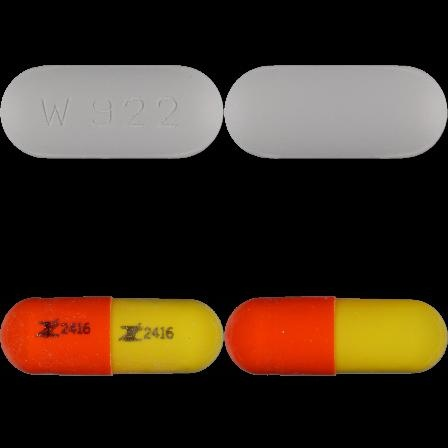16590-215: (0, 0, 224, 224)
